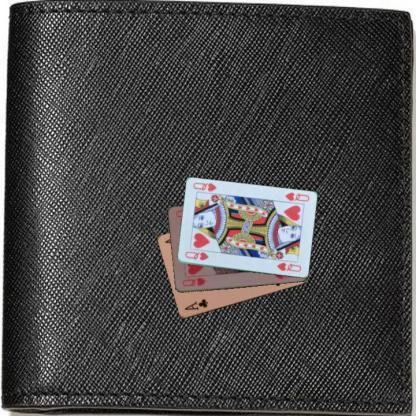Ac: (182, 296, 209, 312)
Qh: (179, 275, 207, 288), (182, 249, 210, 262), (283, 190, 310, 203)
